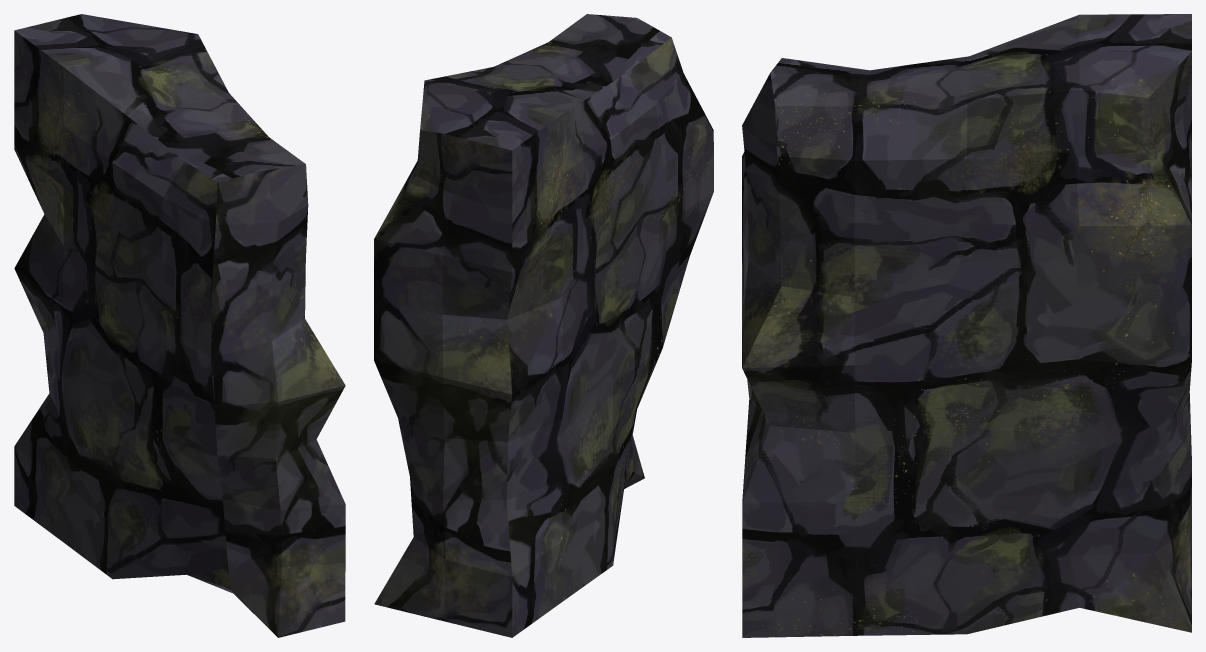
File: Ruins_corner_04.fbx
3 views of the same model, side by side, from view 1: azimuth 30°, elevation 25°; view 2: azimuth 150°, elevation 25°; view 3: azimuth 270°, elevation 25° (orthographic). The views are drawn at different scales.
Visible parts, largest first — view 1: Ruins_Corner_04; view 2: Ruins_Corner_04; view 3: Ruins_Corner_04.
Boxes of the visible parts, box(x1,y1,x2,y2) form: Ruins_Corner_04: box(14, 14, 345, 637); Ruins_Corner_04: box(374, 14, 713, 637); Ruins_Corner_04: box(742, 14, 1191, 637).
Size of the model in its own units: 0.1485 by 0.5049 by 0.3751.
Materials: 1 (1 with a texture image).
